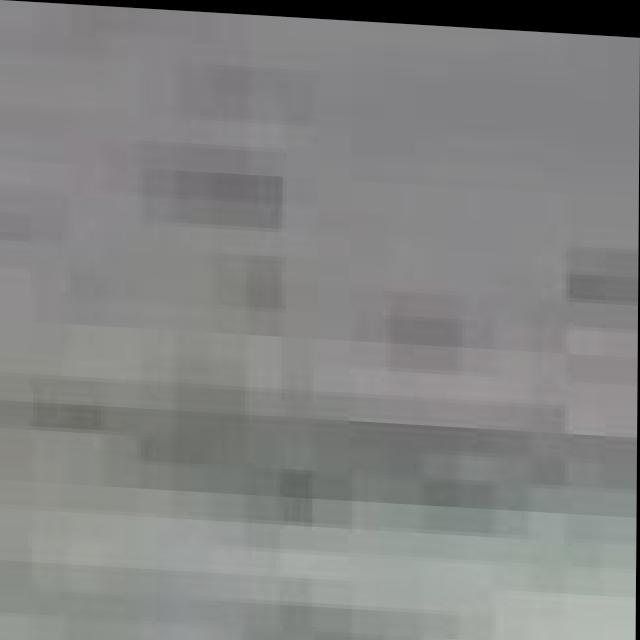inductor: (0, 0, 640, 566)
